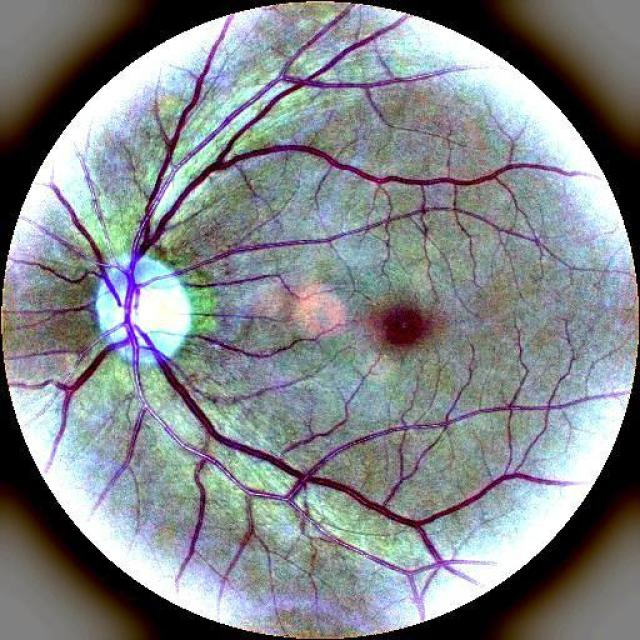Macula: (365, 293, 436, 360)
Nerves: (46, 184, 381, 478), (160, 80, 378, 219), (146, 20, 281, 212), (26, 261, 86, 282), (22, 305, 86, 312)
Optic Disk: (98, 258, 188, 366)
